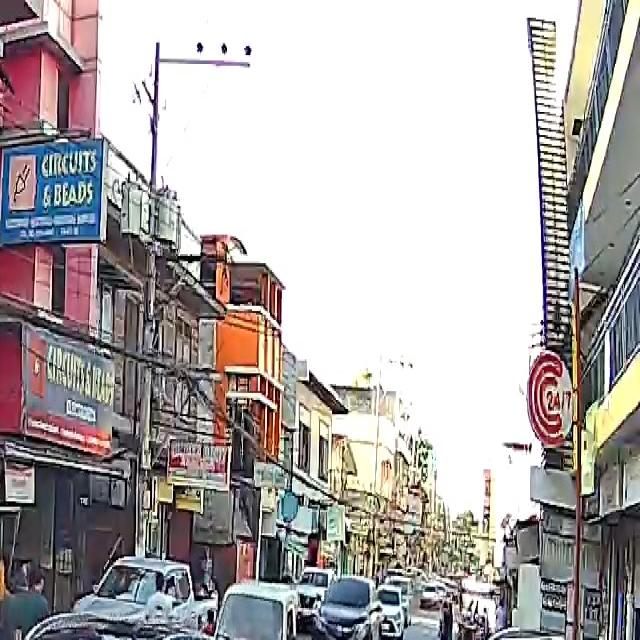car: (0, 610, 244, 640), (207, 579, 318, 640), (312, 576, 386, 640), (470, 626, 638, 640), (376, 588, 406, 639)
